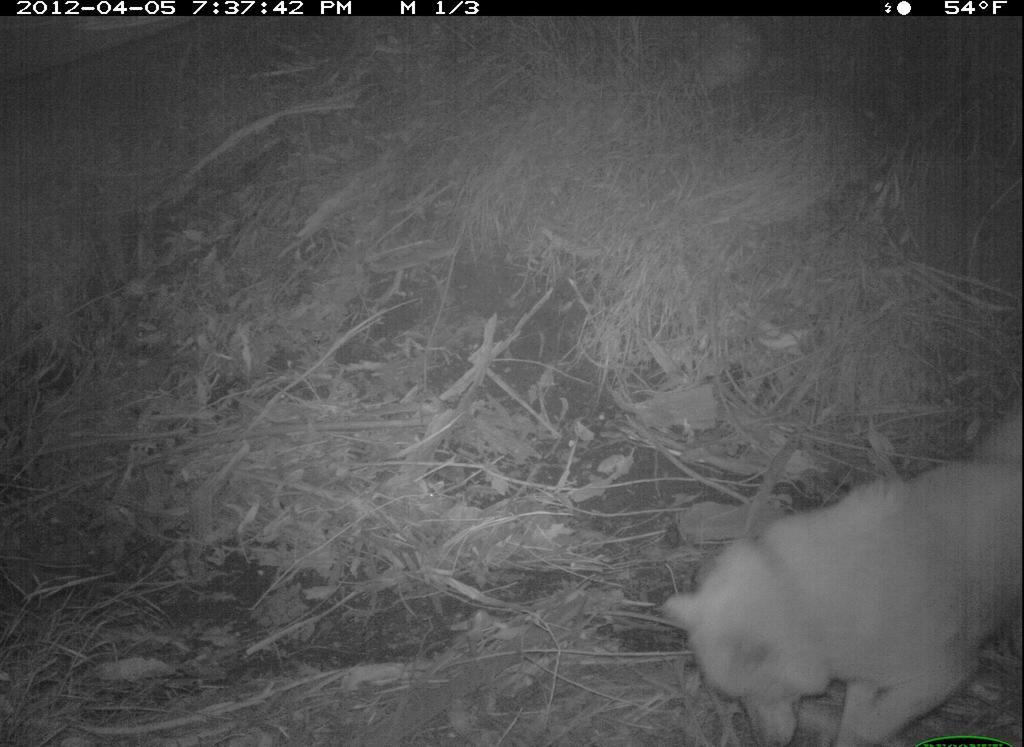dog: (646, 415, 1024, 747)
